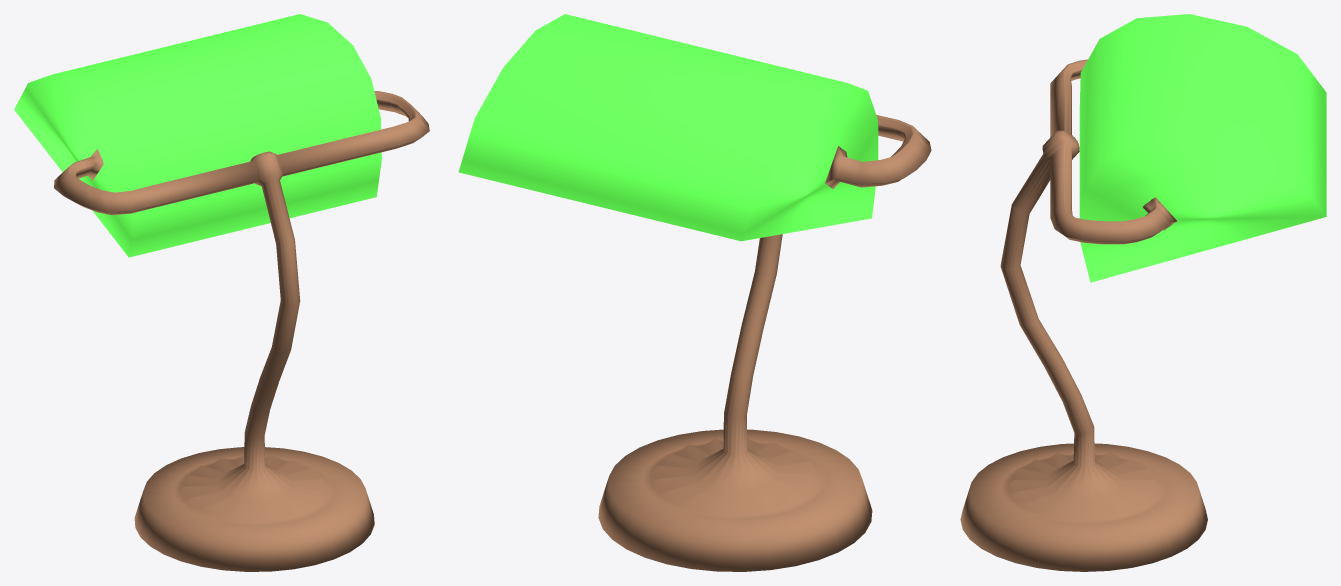
Rendered from temp lamp.fbx.
3 views of the same model, side by side, from view 1: azimuth 30°, elevation 25°; view 2: azimuth 150°, elevation 25°; view 3: azimuth 270°, elevation 25° (orthographic). The views are drawn at different scales.
Parts seen in each view (by area): view 1: shade, base; view 2: shade, base; view 3: shade, base.
Part boxes in pixels (x1=…): shade: x1=14, y1=14, x2=381, y2=257; base: x1=54, y1=91, x2=429, y2=571; shade: x1=458, y1=14, x2=878, y2=241; base: x1=598, y1=115, x2=931, y2=571; shade: x1=1079, y1=14, x2=1326, y2=282; base: x1=960, y1=59, x2=1207, y2=571.
Size of the model in its own units: 26.95 by 31.62 by 23.65.
